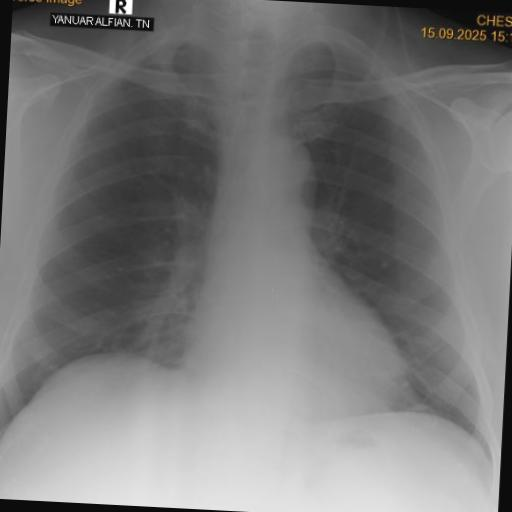kardiomegali: (0, 4, 512, 477)
